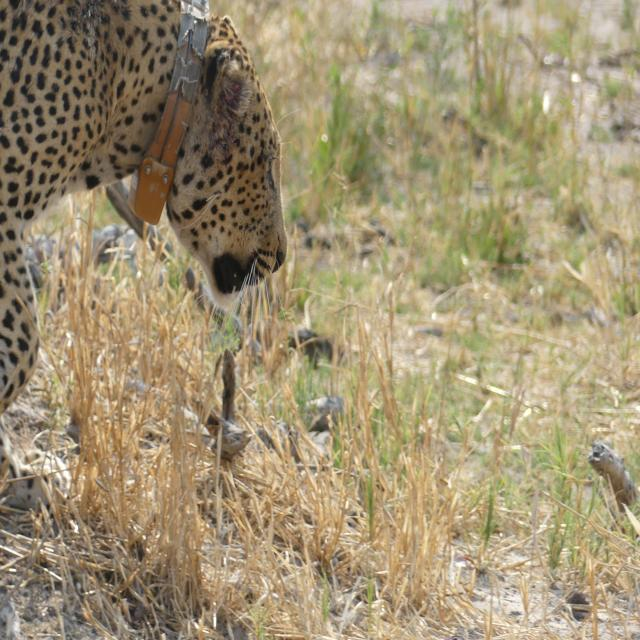Leopard: (0, 0, 317, 579)
